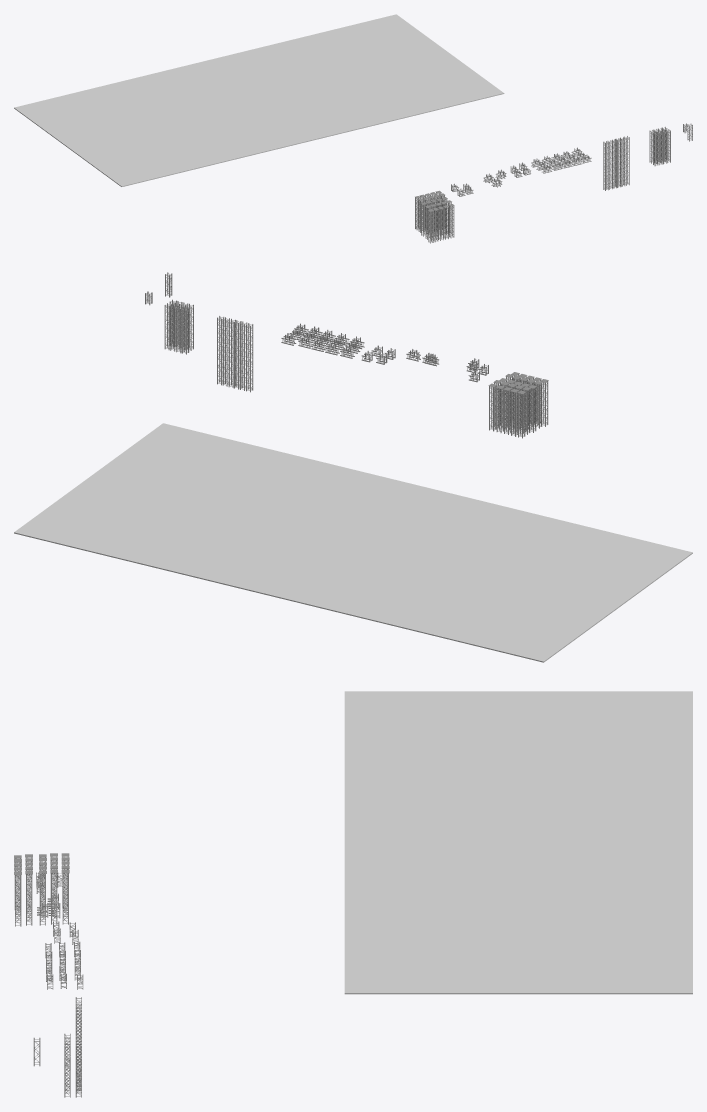
File: M222_Milos_Truss_All-c916b65c.glb
The picture shows the model from 3 angles, top to bottom: view 1: azimuth 30°, elevation 25°; view 2: azimuth 150°, elevation 25°; view 3: azimuth 270°, elevation 25°; orthographic projection. The views are drawn at different scales.
Visible parts, largest first — view 1: object 68; view 2: object 68; view 3: object 68.
Boxes of the visible parts, left/top/right/bottom form: object 68: left=14, top=14, right=504, bottom=186; object 68: left=14, top=423, right=692, bottom=662; object 68: left=344, top=691, right=692, bottom=994.
Size of the model in its own units: 31.38 by 3.6 by 23.76.
Materials: 3 (2 with a texture image).
